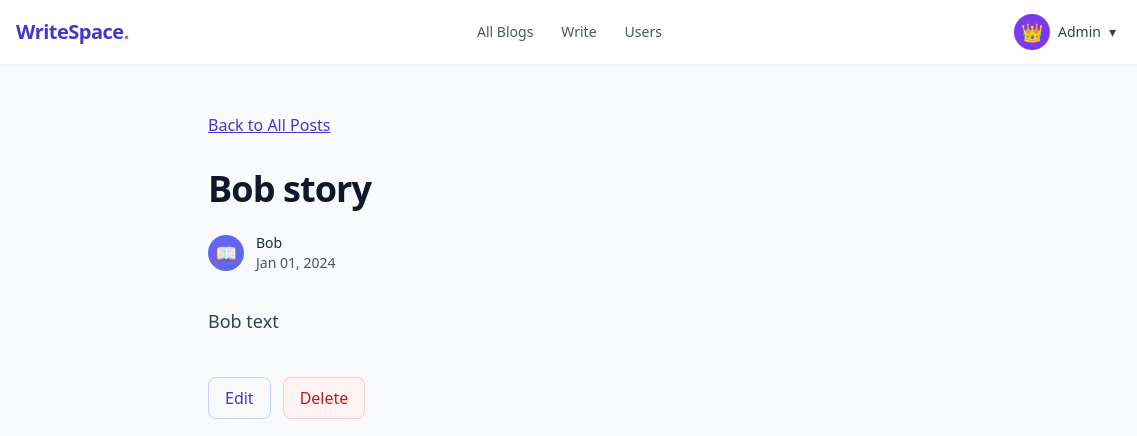
Scenario: blog routes › allows an admin to manage another writer’s post
Expected: the link "Edit" is shown, top-left (208, 377), bottom-right (271, 419)
Click the button "Delete" at (324,398), box top-left (283, 377), bottom-right (365, 419)
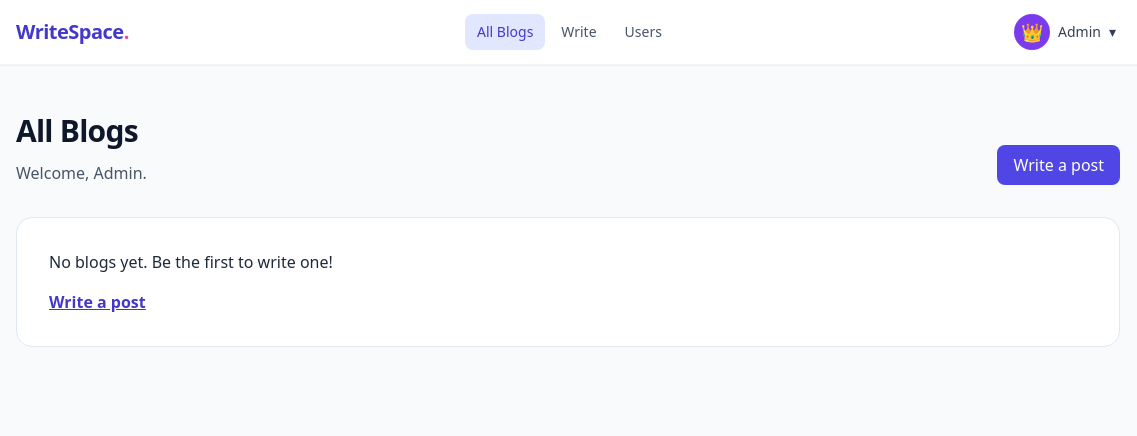
Expected: the heading "All Blogs" is shown, top-left (16, 113), bottom-right (147, 149)
